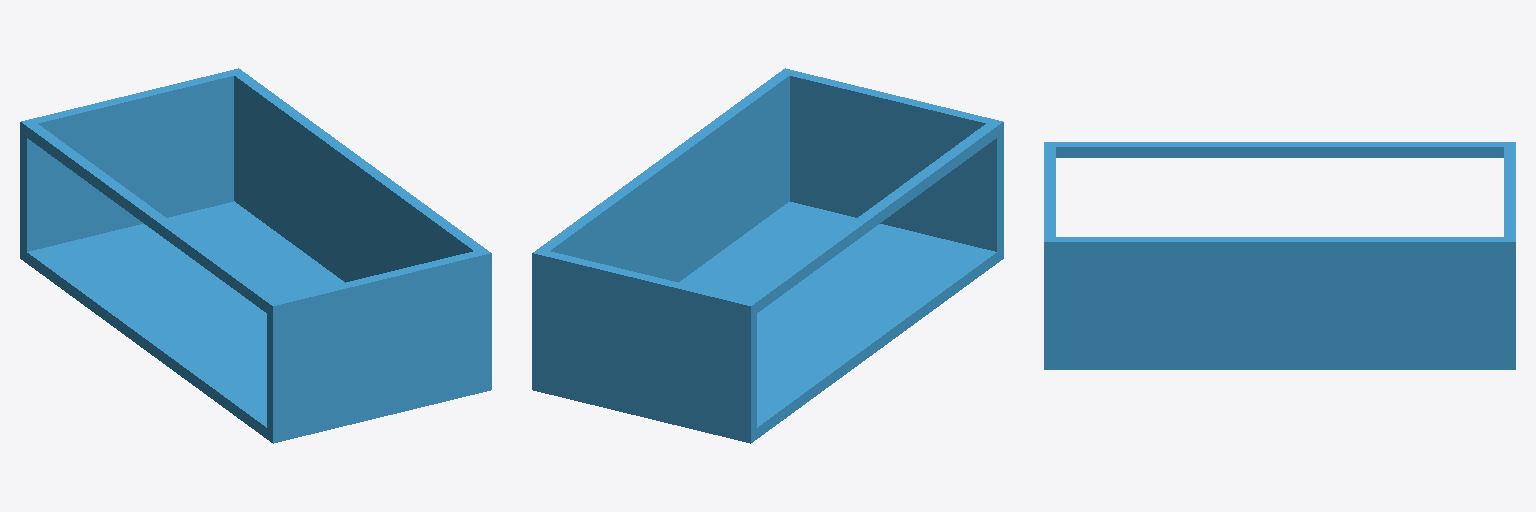
robot.urdf — halfopen_box:
<?xml version="1.0"?>
<robot name="halfopen_box" xmlns:xacro="http://wiki.ros.org/xacro">

<link name="work"/>

<joint name="work_to_wobj" type="fixed">
  <parent link="work"/>
  <child link="wobj"/>
  <origin xyz="1 1 0" rpy="0 0 1.5707963267948966" />
</joint>

<!-- <link name="wobj">
  <visual>
    <origin xyz="0 0 0" rpy="0 0 0"/>
    <geometry>
      <mesh filename="halfopen_box.stl"  scale=".001 .001 .001"/>
    </geometry>
    <material name="gray"/>
  </visual>
  <collision>
    <origin xyz="0 0 0" rpy="0 0 0"/>
    <geometry>
      <mesh filename="halfopen_box.stl"  scale=".001 .001 .001"/>
    </geometry>
  </collision>
</link> -->

<link name="wobj">
  <visual>
    <origin xyz="0 0 0" rpy="0 0 0"/>
    <geometry>
      <mesh filename="halfopen_box_small.stl"  scale=".001 .001 .001"/>
    </geometry>
    <material name="gray"/>
  </visual>
  <collision>
    <origin xyz="0 0 0" rpy="0 0 0"/>
    <geometry>
      <mesh filename="halfopen_box_small.stl"  scale=".001 .001 .001"/>
    </geometry>
  </collision>
</link>

<!-- <link name="wobj">
  <visual>
    <origin xyz="0 0 0" rpy="0 0 0"/>
    <geometry>
      <box size="0.01 0.01 0.01"/>
    </geometry>
    <material name="gray"/>
  </visual>
  <collision>
    <origin xyz="0 0 0" rpy="0 0 0"/>
    <geometry>
      <box size="0.01 0.01 0.01"/>
    </geometry>
  </collision>
</link> -->
</robot>

--- What the picture shows (computed from the rendered views, not written in the file) ---
Views: 3 orthographic renders of the robot side by side, from view 1: azimuth 30°, elevation 25°; view 2: azimuth 150°, elevation 25°; view 3: azimuth 270°, elevation 25°.
Model halfopen_box with 2 links and 1 joints (1 fixed), rooted at work, posed all joints at 0.
Links seen in each view (by area): view 1: wobj; view 2: wobj; view 3: wobj.
Link boxes in pixels (x1,y1,x2,y2): wobj: [20, 68, 491, 443]; wobj: [532, 68, 1003, 443]; wobj: [1044, 142, 1515, 369].
Size in the robot's own frame: 1 by 2 by 0.6 metres.
Meshes: 1 distinct files referenced, 1 mesh visuals loaded (1 binary STL).